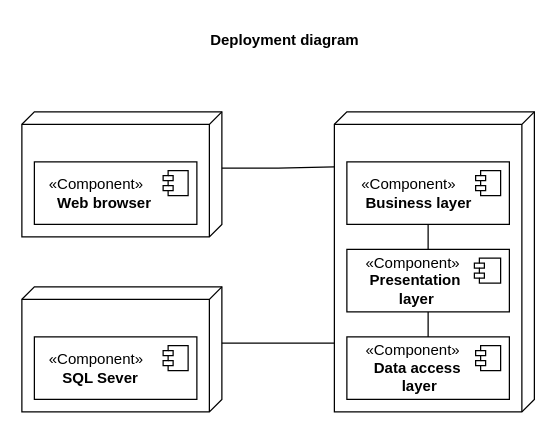
Image size: 556x434. Some labels were removed from this diagram. The box of each missing label's shape, as (x1, y1, x2, y2) in pixels:
Database server: (21, 286, 222, 412)
Web server: (333, 111, 534, 412)
Workstation: (21, 111, 222, 237)
